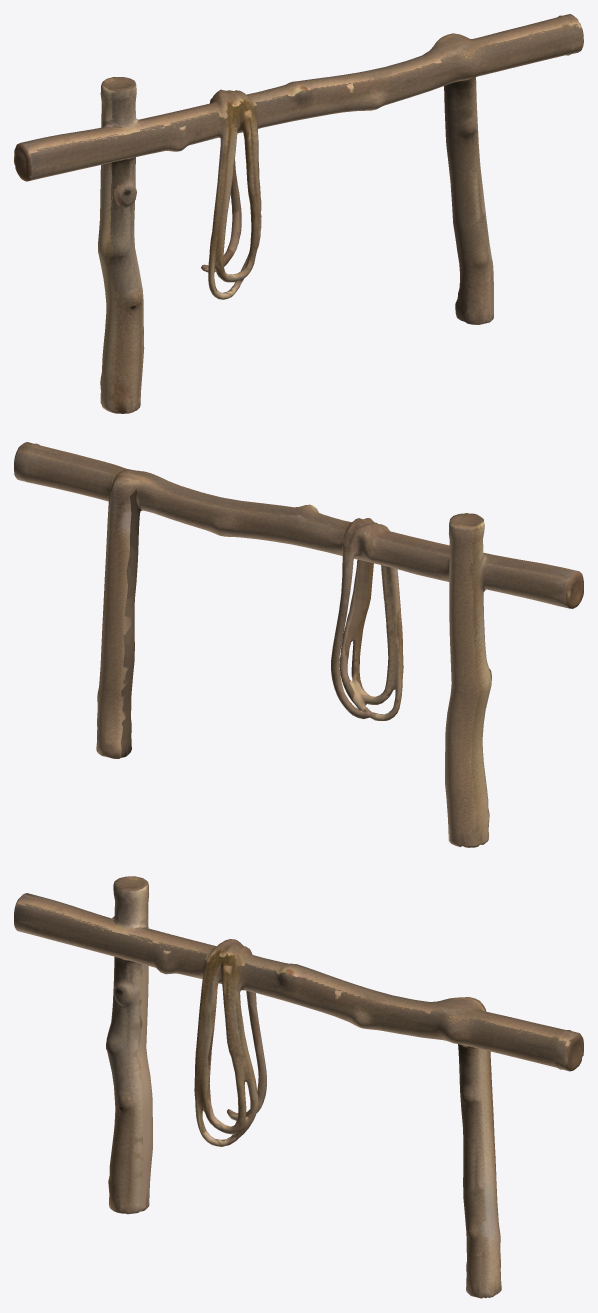
File: palenque.glb
3 views of the same model, one above another, from view 1: azimuth 30°, elevation 25°; view 2: azimuth 150°, elevation 25°; view 3: azimuth 330°, elevation 25° (orthographic).
Parts seen in each view (by area): view 1: temp_mesh.ply; view 2: temp_mesh.ply; view 3: temp_mesh.ply.
Part boxes in pixels (bbox=[...]): temp_mesh.ply: bbox=[14, 14, 583, 413]; temp_mesh.ply: bbox=[14, 442, 583, 847]; temp_mesh.ply: bbox=[14, 876, 583, 1298].
Bounding box in the file's own units: 2.6 × 1.44 × 0.2313.
1 material, 1 textured.
